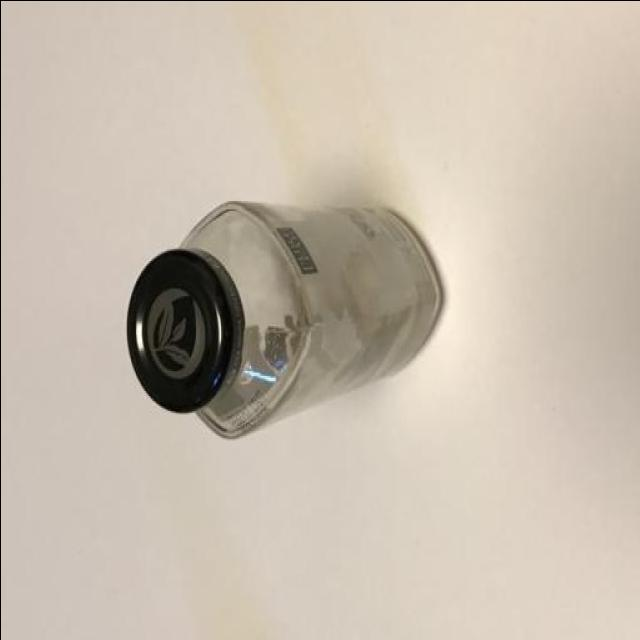glass: (124, 190, 444, 443)
